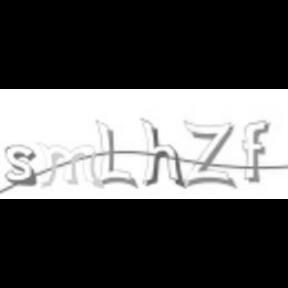L: (92, 115, 140, 191)
Z: (184, 119, 236, 189)
f: (240, 118, 270, 184)
h: (136, 115, 186, 188)
m: (36, 141, 104, 191)
s: (4, 144, 38, 186)
